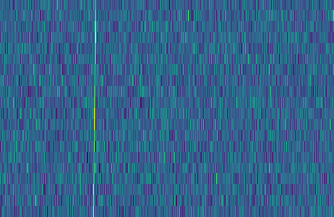signal: (86, 0, 97, 217)
